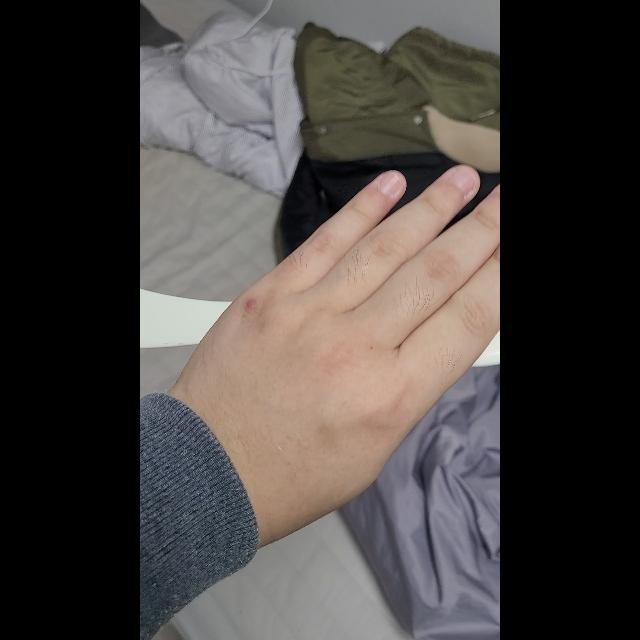COMB: (140, 288, 500, 368)
